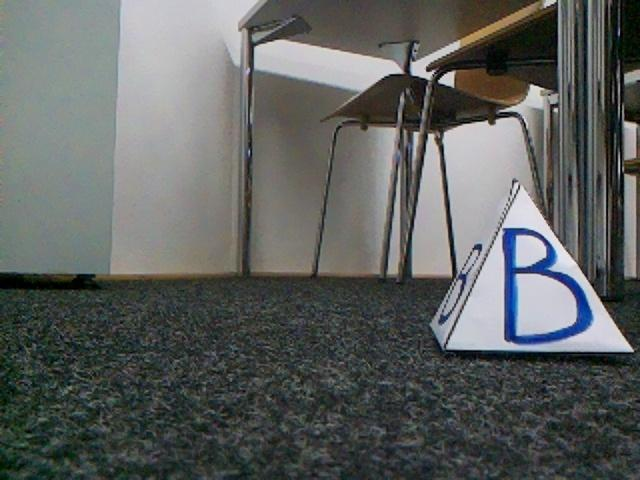B: (432, 176, 635, 358)
